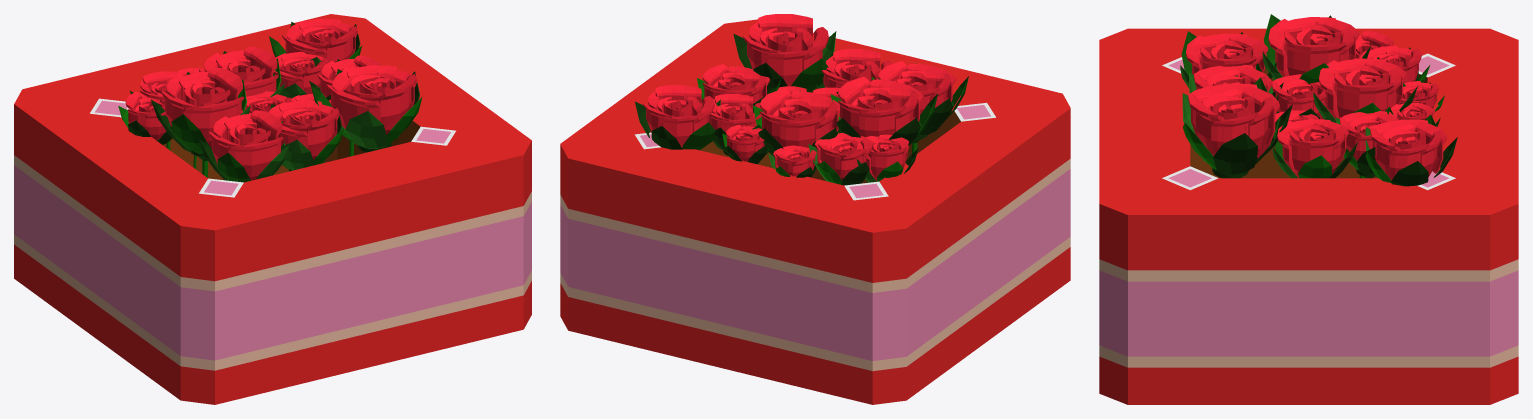
Rendered from Hyabun1-2.fbx.
The picture shows the model from 3 angles, left to right: view 1: azimuth 30°, elevation 25°; view 2: azimuth 150°, elevation 25°; view 3: azimuth 270°, elevation 25°; orthographic projection. The views are drawn at different scales.
Parts seen in each view (by area): view 1: Hyabun1-2; view 2: Hyabun1-2; view 3: Hyabun1-2.
Boxes of the visible parts, x1,y1,x2,y2 form: Hyabun1-2: (14, 14, 531, 404); Hyabun1-2: (560, 14, 1070, 404); Hyabun1-2: (1099, 14, 1518, 404).
Size of the model in its own units: 0.5101 by 0.3181 by 0.4848.
